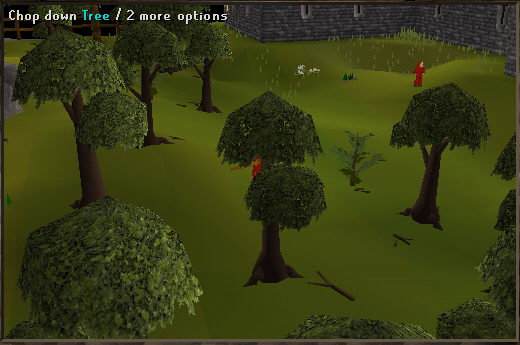Tree: (225, 96, 329, 274), (27, 35, 128, 203), (398, 88, 477, 245), (107, 14, 177, 160), (190, 21, 228, 120)
